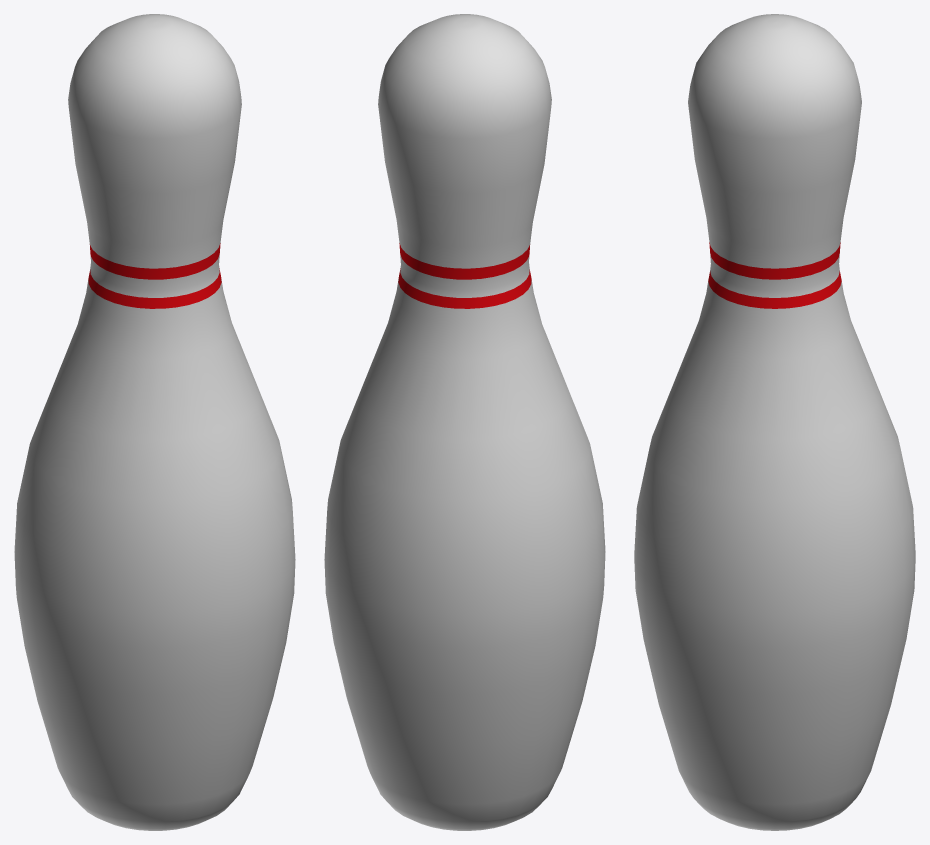
File: bowling_pin.glb
The picture shows the model from 3 angles, left to right: view 1: azimuth 30°, elevation 25°; view 2: azimuth 150°, elevation 25°; view 3: azimuth 270°, elevation 25°; orthographic projection.
Parts seen in each view (by area): view 1: Cylinder; view 2: Cylinder; view 3: Cylinder.
Part boxes in pixels (x1=…): Cylinder: x1=14, y1=14, x2=295, y2=830; Cylinder: x1=324, y1=14, x2=605, y2=830; Cylinder: x1=634, y1=14, x2=915, y2=830.
Size of the model in its own units: 0.8546 by 2.63 by 0.8546.
